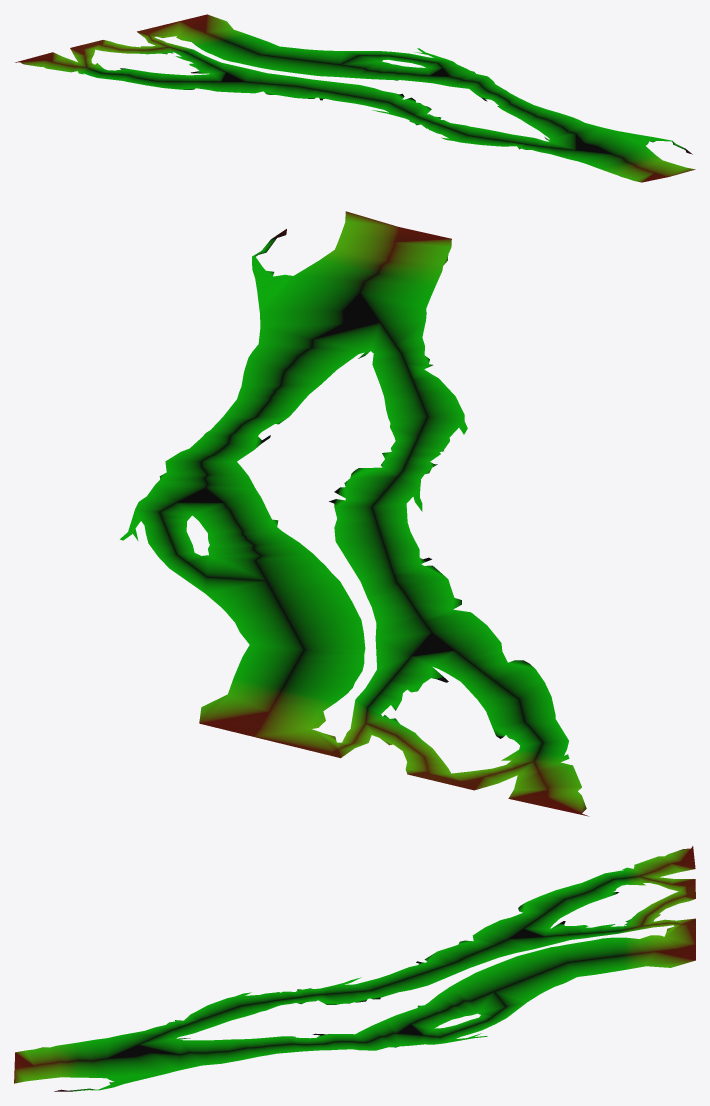
File: SM_River_Hanoi_01.fbx
3 renders of one model, top to bottom at view 1: azimuth 30°, elevation 25°; view 2: azimuth 150°, elevation 25°; view 3: azimuth 270°, elevation 25°, orthographic. The views are drawn at different scales.
Visible parts, largest first — view 1: RedRiver; view 2: RedRiver; view 3: RedRiver.
Boxes of the visible parts, x1,y1,x2,y2 form: RedRiver: (15, 14, 695, 182); RedRiver: (120, 211, 589, 816); RedRiver: (14, 846, 695, 1091).
Bounding box in the file's own units: 461014 × 2565 × 539741.
